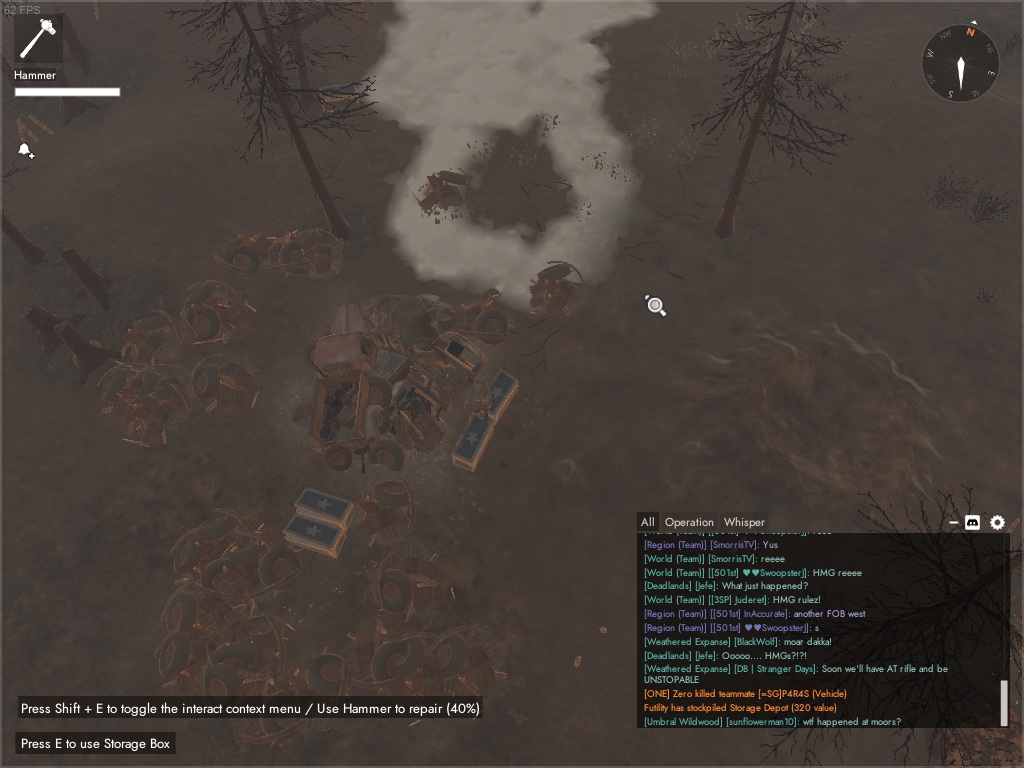player: (463, 377, 496, 424)
scrap: (346, 617, 509, 717), (148, 595, 292, 704), (211, 643, 356, 750), (161, 502, 299, 610), (96, 355, 203, 452), (215, 220, 344, 281), (364, 547, 460, 626), (347, 477, 418, 552), (177, 278, 255, 346), (186, 349, 260, 414), (451, 287, 518, 349), (522, 258, 587, 321), (410, 164, 477, 224), (119, 311, 183, 369)
scrapyard: (286, 282, 494, 478)
storage_box: (279, 510, 348, 561), (292, 484, 359, 535), (446, 410, 498, 474), (474, 364, 521, 425), (315, 77, 361, 116)
